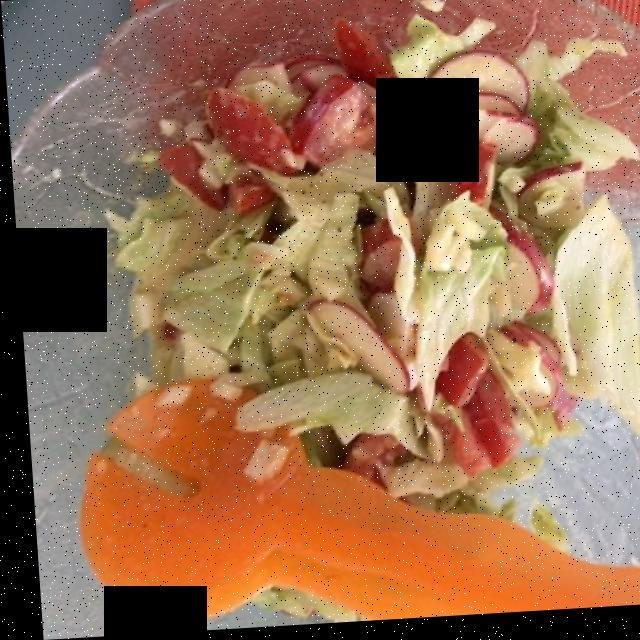radish: (304, 56, 602, 409)
salad: (105, 0, 635, 501)
tomato: (163, 52, 525, 480)
